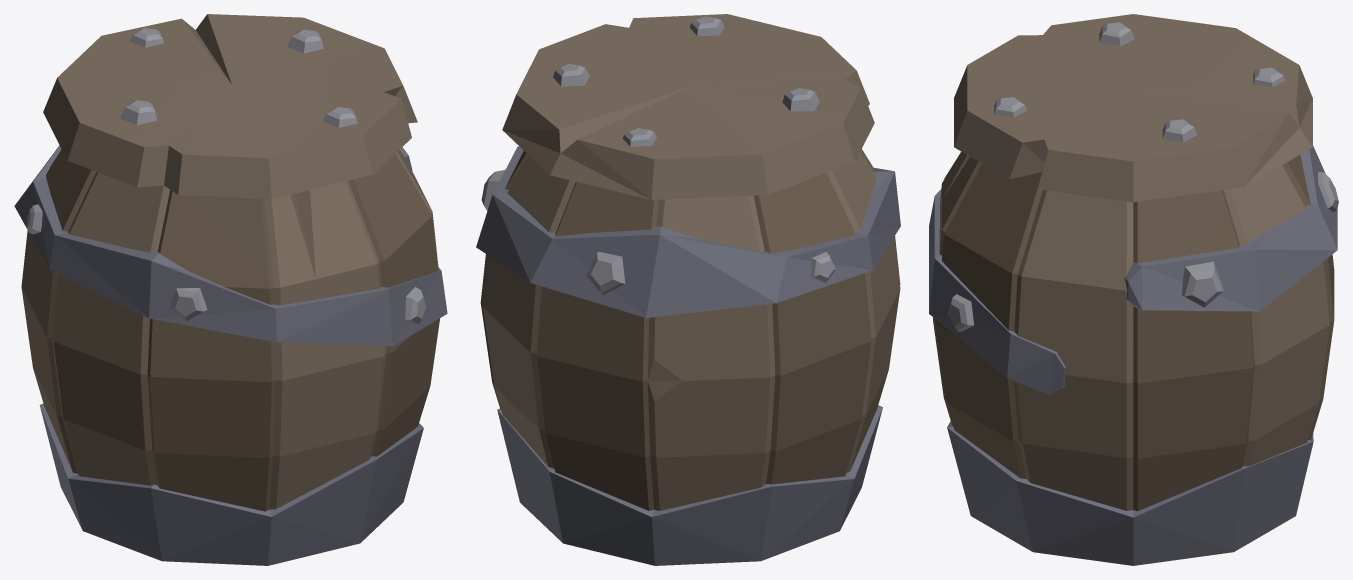
Rendered from _barrel_2.fbx.
The picture shows the model from 3 angles, left to right: view 1: azimuth 30°, elevation 25°; view 2: azimuth 150°, elevation 25°; view 3: azimuth 270°, elevation 25°; orthographic projection.
Visible parts, largest first — view 1: barrel_2; view 2: barrel_2; view 3: barrel_2.
Boxes of the visible parts, left/top/right/bottom form: barrel_2: left=14, top=14, right=447, bottom=565; barrel_2: left=476, top=14, right=900, bottom=565; barrel_2: left=929, top=14, right=1338, bottom=565.
Bounding box in the file's own units: 137 × 150 × 133.
